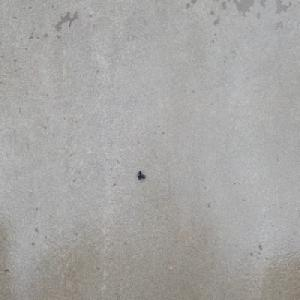BoltWasher: (137, 170, 145, 180)
